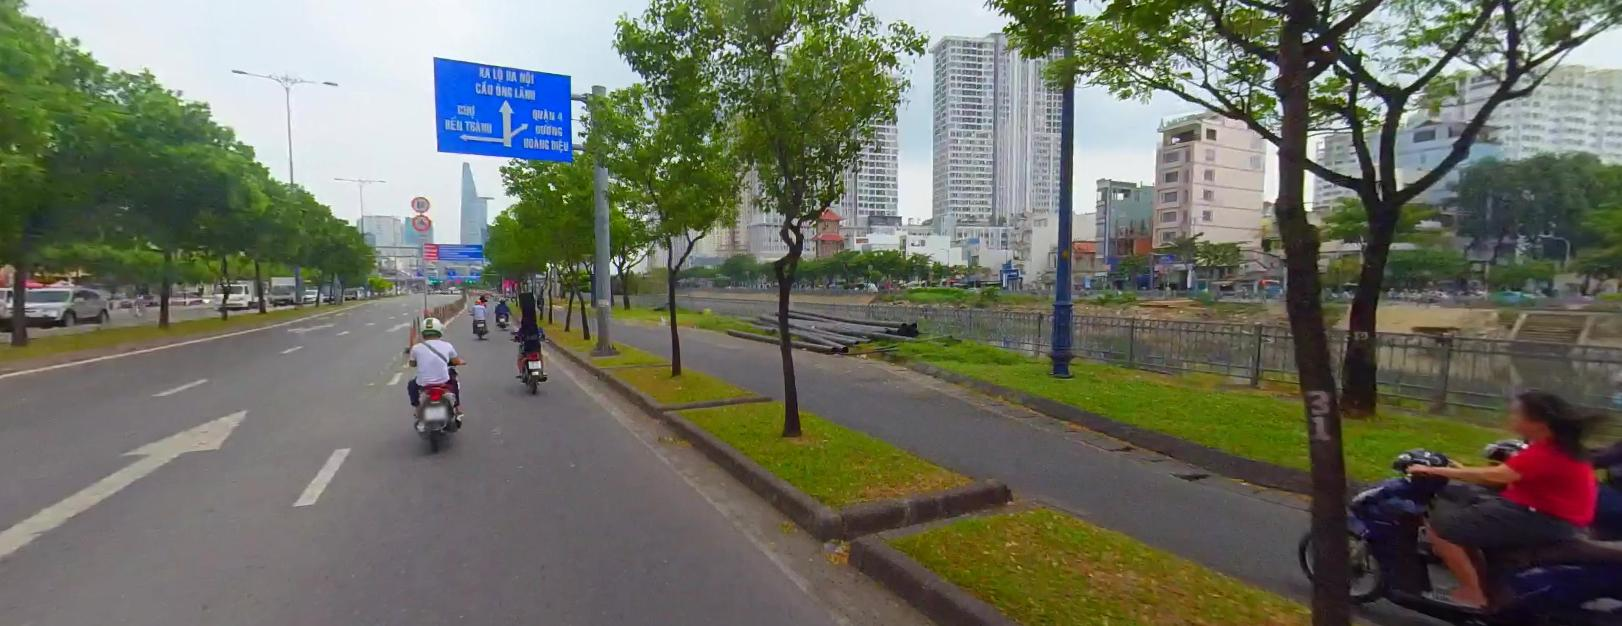Cam con lai: (411, 214, 431, 230)
Gioi han toc do: (411, 195, 429, 211)
